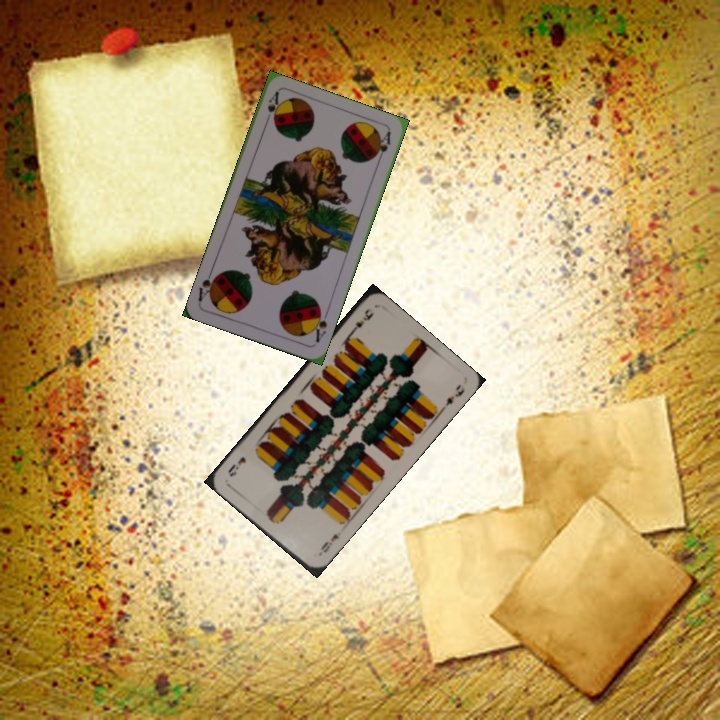E9: (346, 304, 376, 338), (316, 530, 341, 555)
SA: (308, 305, 330, 345), (261, 88, 282, 128)
